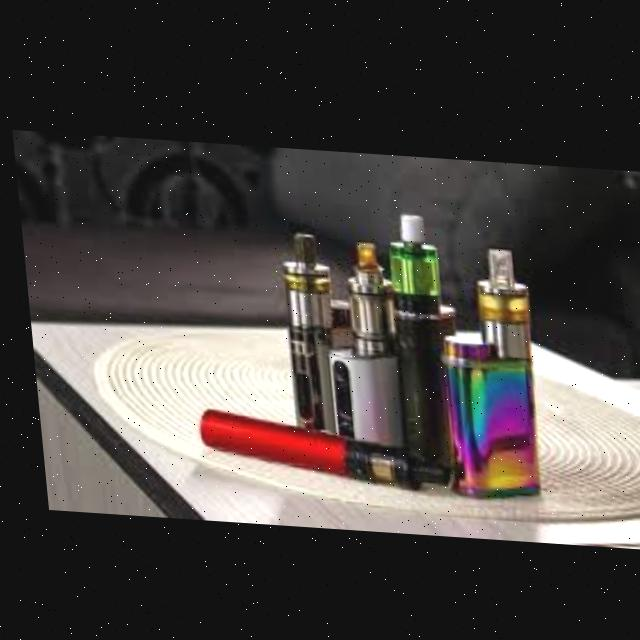vape: (422, 239, 539, 496), (380, 204, 460, 477), (319, 235, 412, 454), (189, 407, 414, 485), (273, 228, 343, 437)
